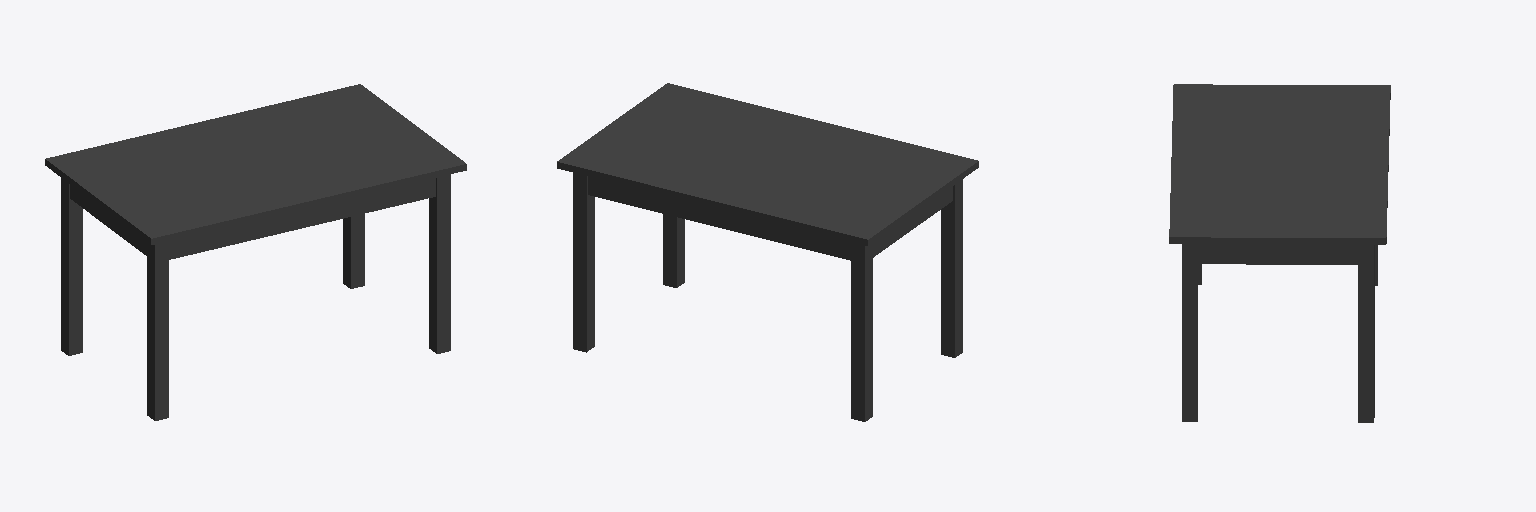
File: table2.obj
3 renders of one model, left to right at view 1: azimuth 30°, elevation 25°; view 2: azimuth 150°, elevation 25°; view 3: azimuth 270°, elevation 25°, orthographic.
Visible parts, largest first — view 1: Mesh.017_Mesh.001_deskWorn.001; view 2: Mesh.017_Mesh.001_deskWorn.001; view 3: Mesh.017_Mesh.001_deskWorn.001.
Boxes of the visible parts, x1,y1,x2,y2 form: Mesh.017_Mesh.001_deskWorn.001: [45, 84, 466, 420]; Mesh.017_Mesh.001_deskWorn.001: [557, 83, 978, 421]; Mesh.017_Mesh.001_deskWorn.001: [1169, 84, 1390, 422].
Bounding box in the file's own units: 1.41 × 0.8086 × 0.8572.